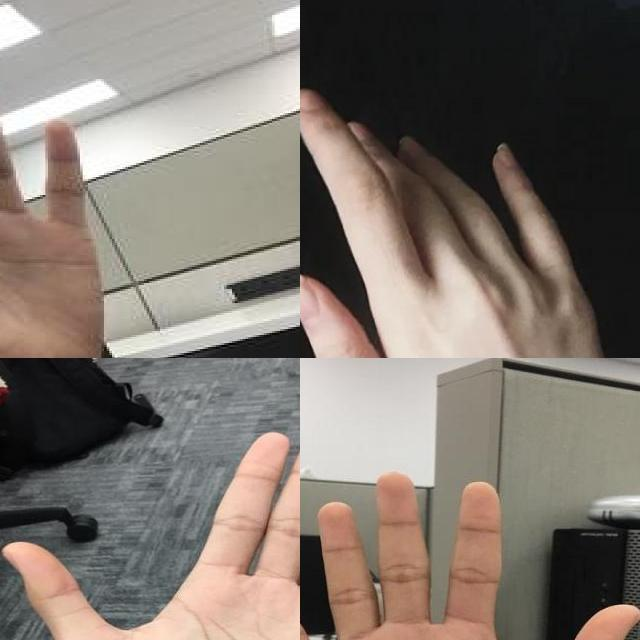hand: (300, 87, 640, 358), (0, 423, 300, 640), (300, 471, 640, 640), (0, 69, 175, 358)
